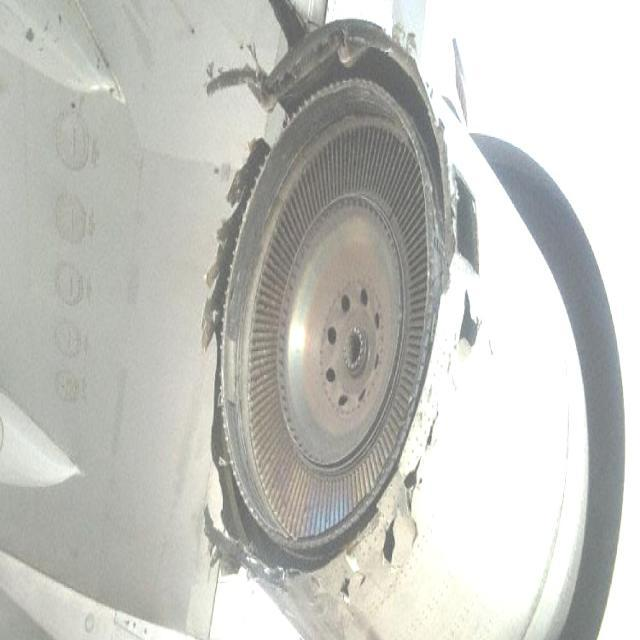crack: (340, 398, 453, 613), (450, 280, 489, 371)
